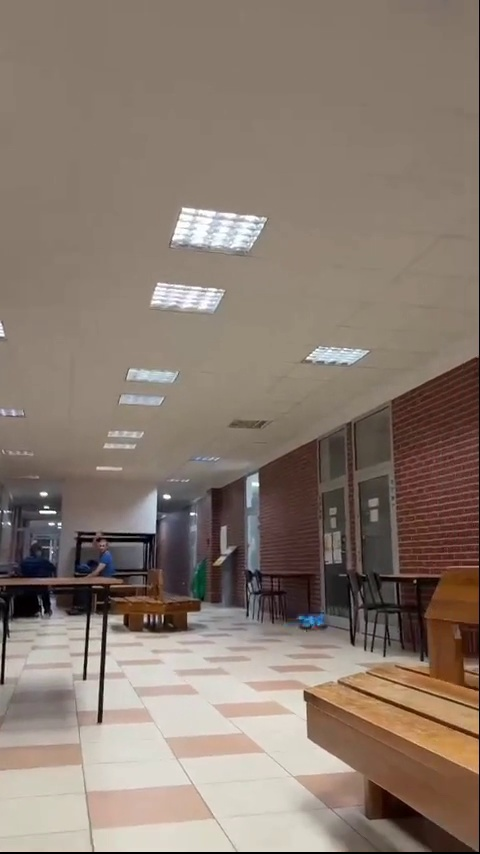drone: (296, 613, 329, 631)
no vest: (76, 532, 118, 582), (12, 536, 53, 587)
